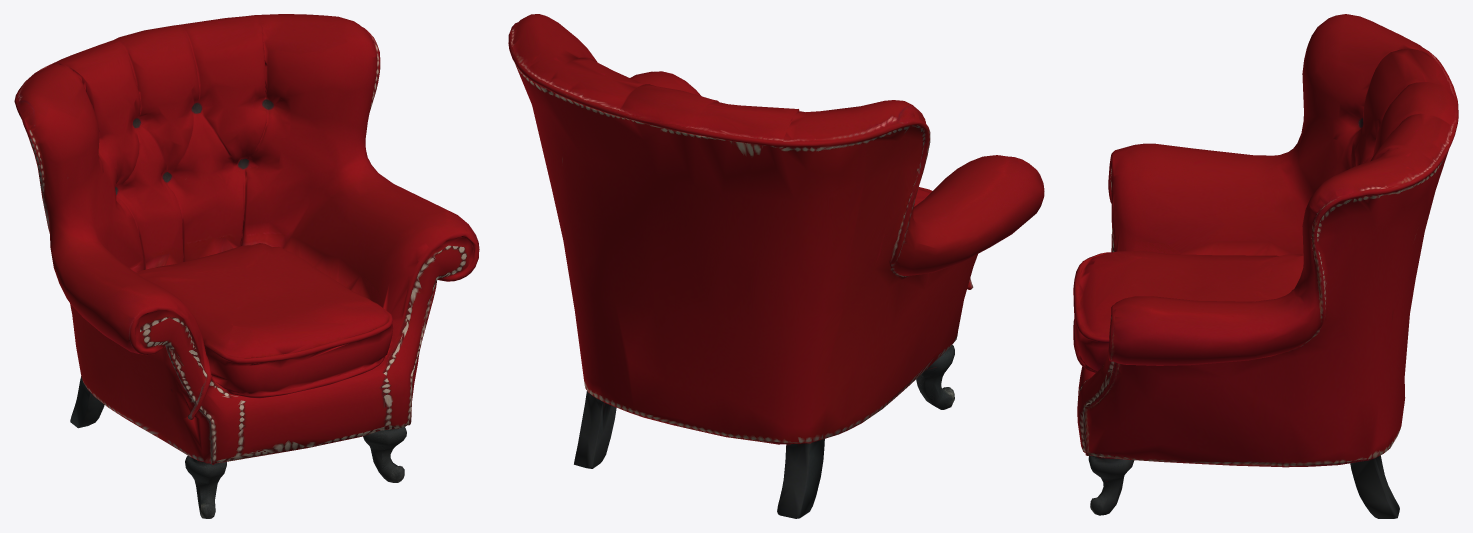
The model's file is armchair.glb.
The picture shows the model from 3 angles, left to right: view 1: azimuth 30°, elevation 25°; view 2: azimuth 150°, elevation 25°; view 3: azimuth 270°, elevation 25°; orthographic projection. The views are drawn at different scales.
Visible parts, largest first — view 1: armchair; view 2: armchair; view 3: armchair.
Part boxes in pixels (<box>): armchair: <box>14,14,479,518</box>; armchair: <box>508,14,1044,518</box>; armchair: <box>1073,14,1458,518</box>.
Size of the model in its own units: 1.07 by 1 by 0.9339.
Materials: 1 (1 with a texture image).
